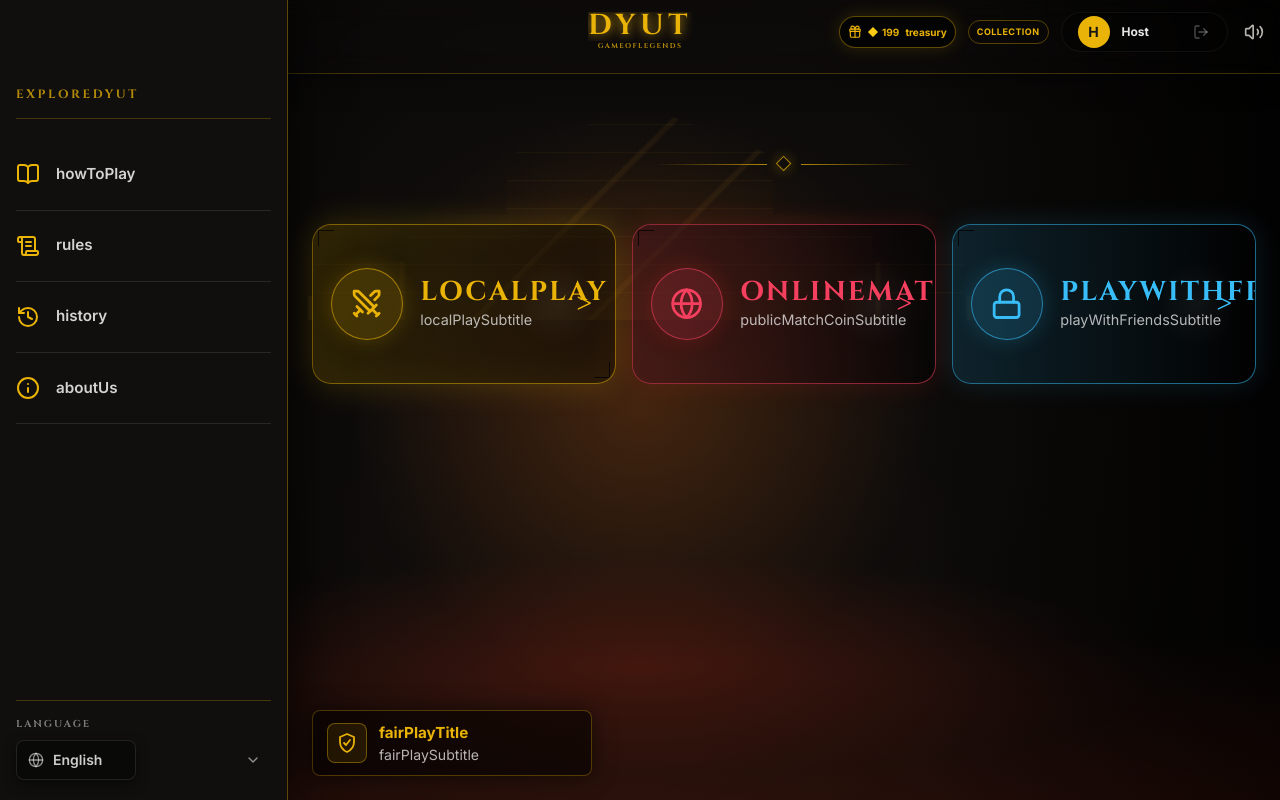
Test: UnifiedLobby standalone menu › blocks public setup below 200 coins while keeping free modes enabled
What coordinates should you click on to do the following:
click the button "onlineMatch publicMatchCoinSubtitle >"
I would click on:
 (784, 304)
Its box is [632, 224, 936, 384].
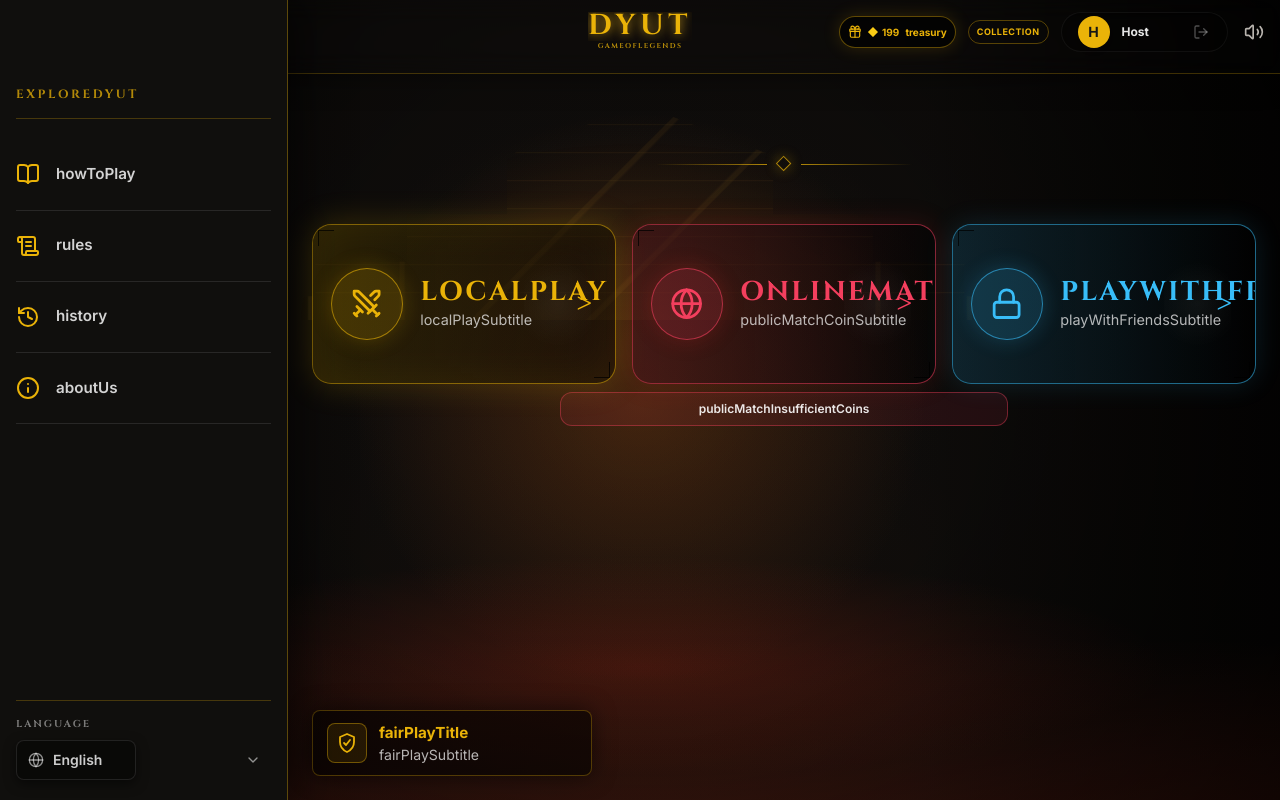
Expected: the button "localPlay localPlaySubtitle >" is enabled, [312, 224, 616, 384]
Now the message reads "publicMatchInsufficientCoins", box [699, 401, 869, 416]
